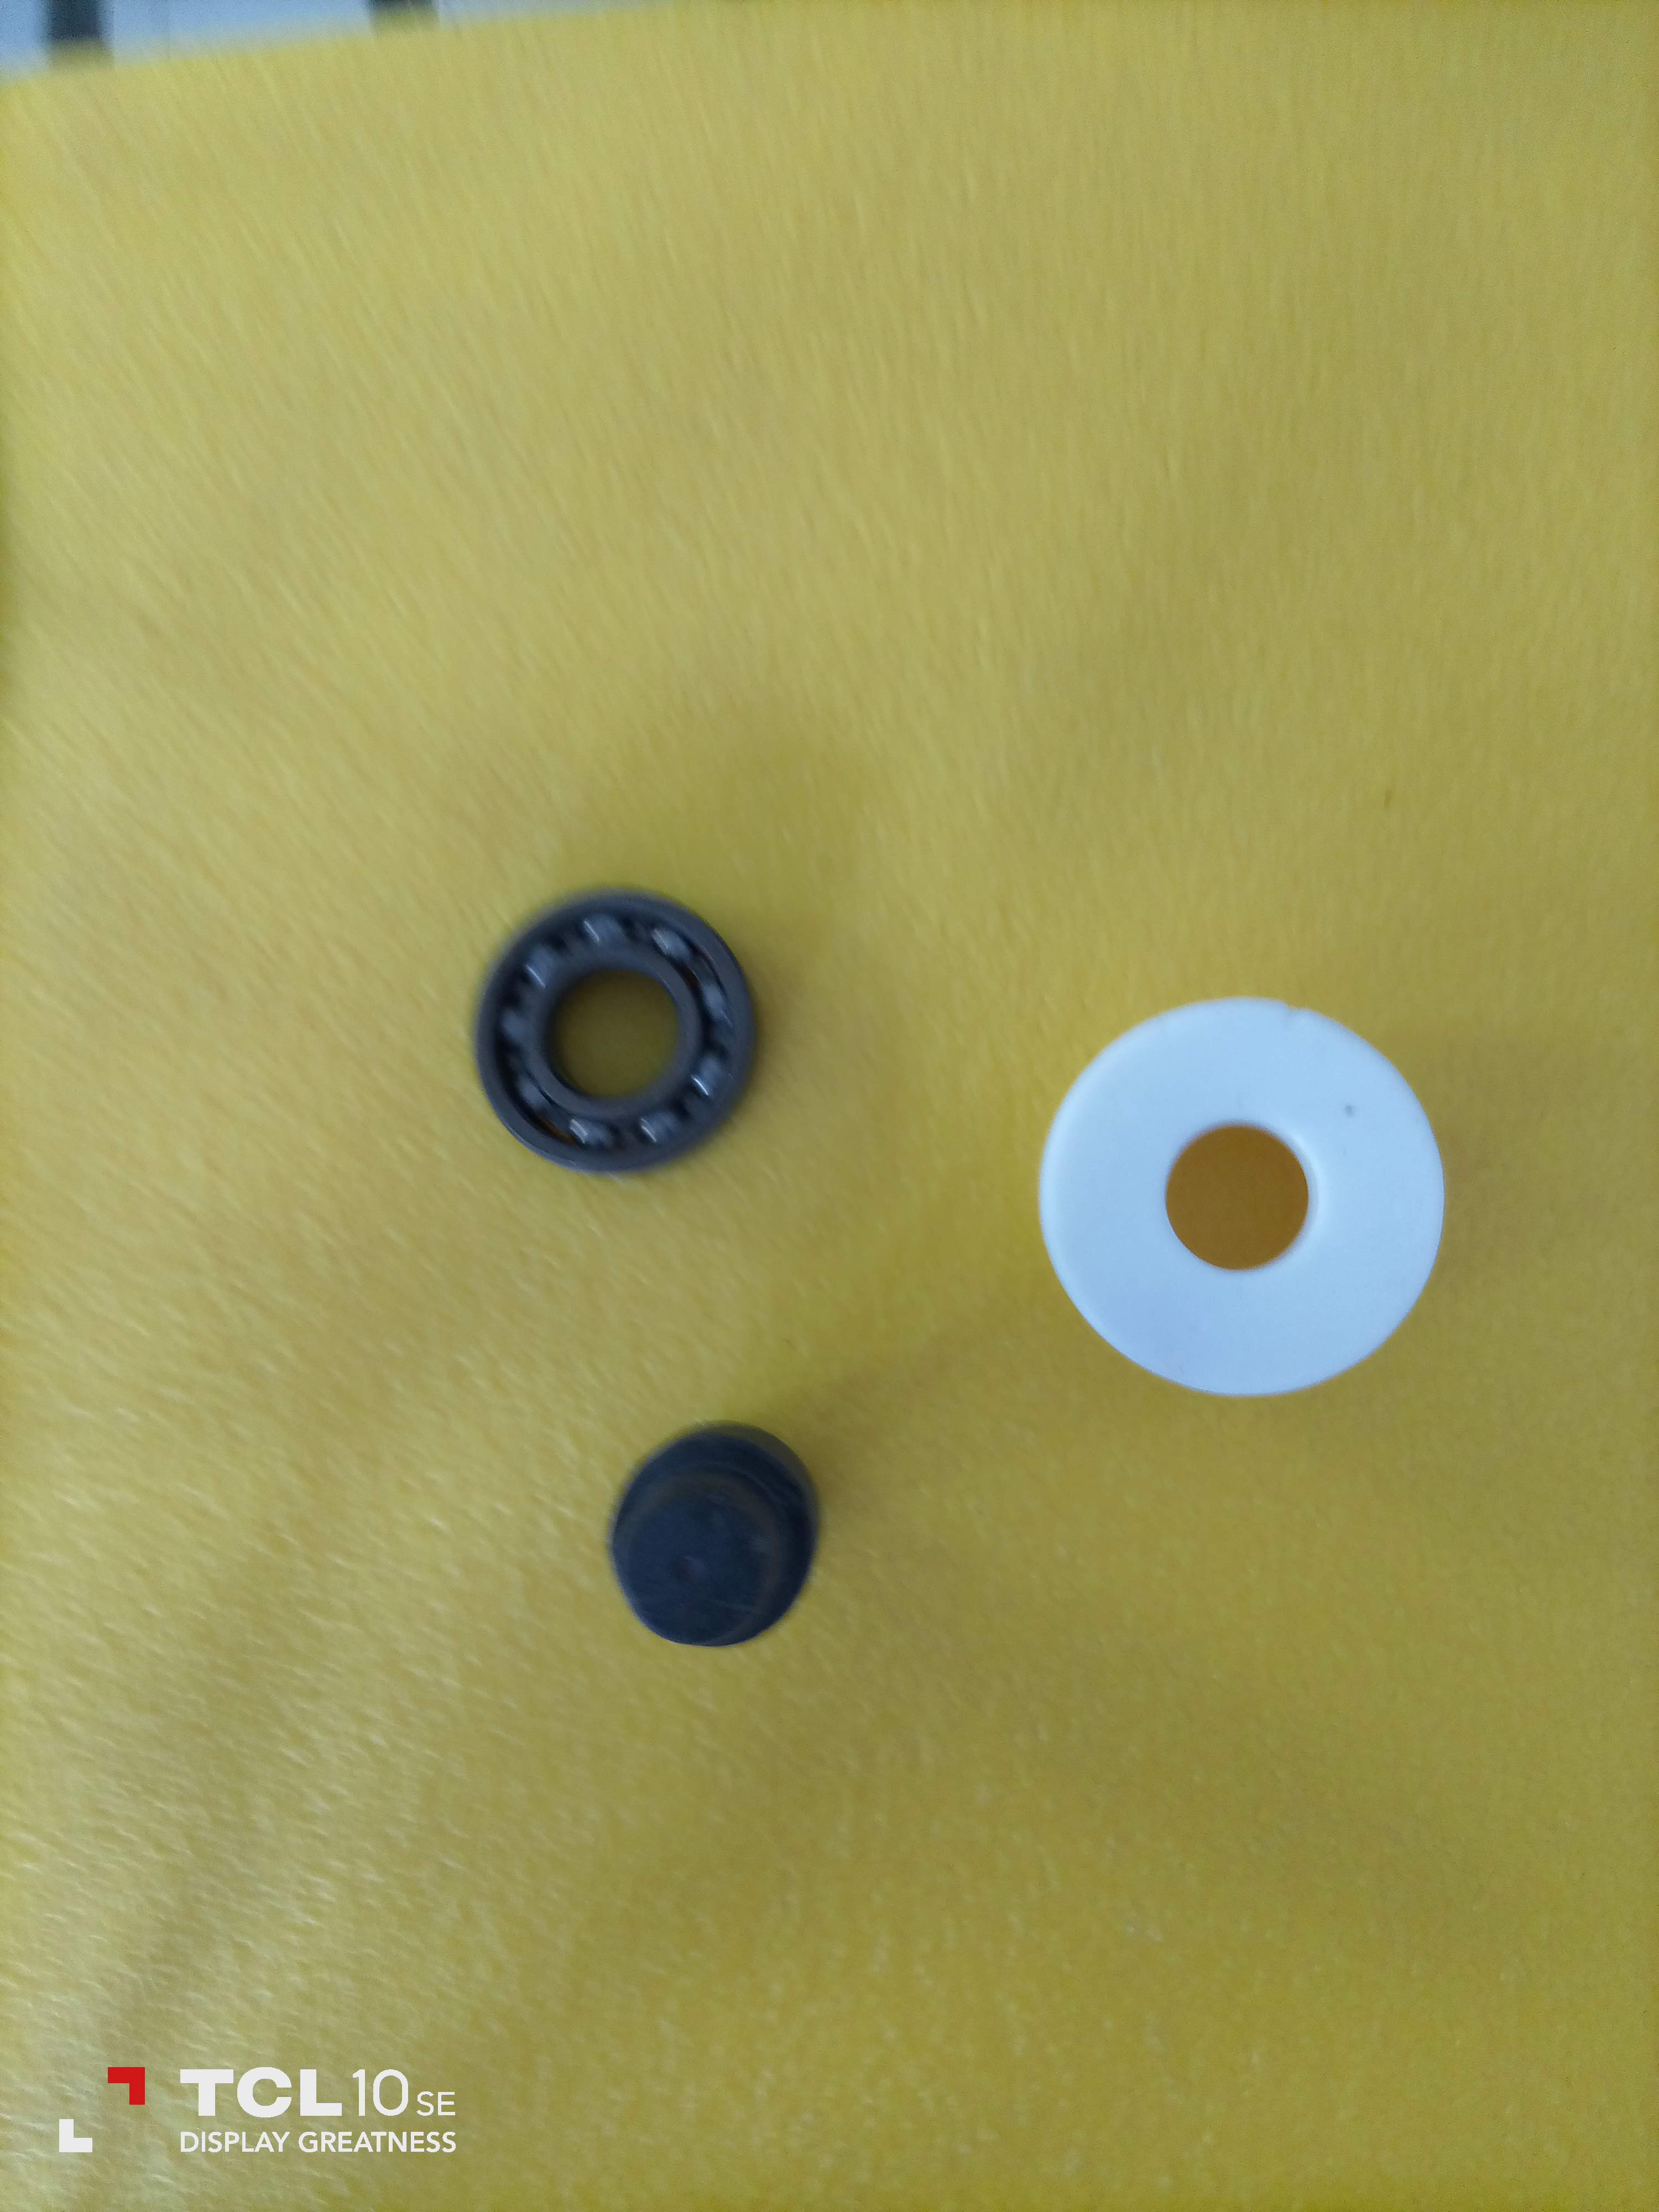Ardatza: (608, 1430, 800, 1651)
Roda: (460, 885, 774, 1176)
Tapa: (1028, 988, 1448, 1397)
